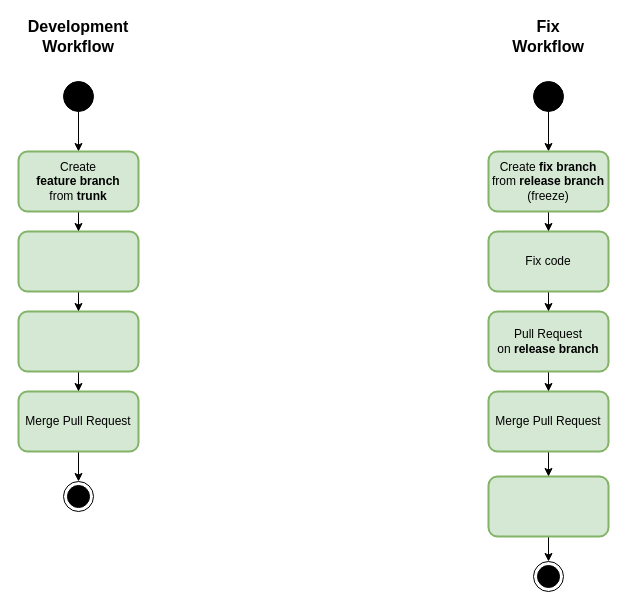
The diagram is 626 pixels wide and 609 high, and some of its shapes have lost their labels. Here are the shapes that lost their labels. From the top down, the box of each, then its label:
(17, 230, 139, 292): Develop
(17, 310, 139, 372): Pull Request on trunk
(487, 475, 609, 537): Cherry pick on trunk
